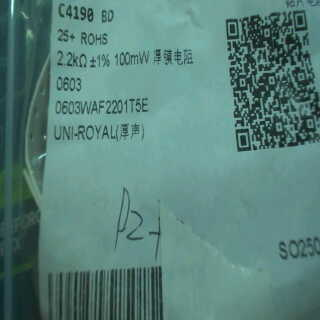2.2kR: (54, 47, 88, 72)
